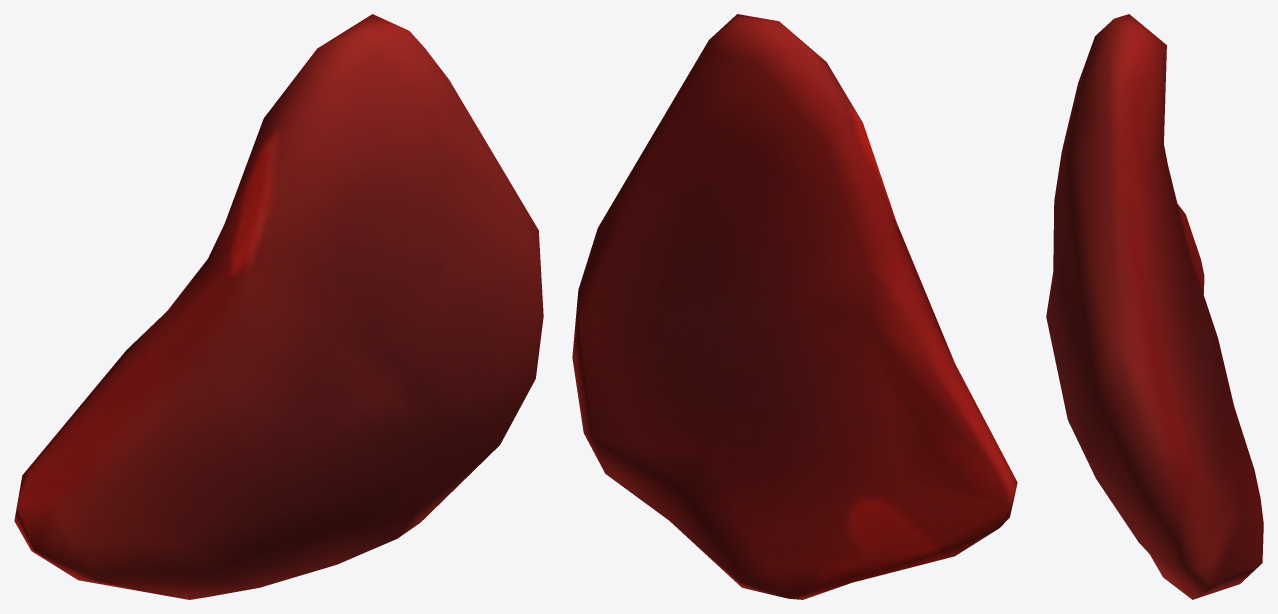
File: Face_Mucle_07.glb
3 renders of one model, left to right at view 1: azimuth 30°, elevation 25°; view 2: azimuth 150°, elevation 25°; view 3: azimuth 270°, elevation 25°, orthographic. The views are drawn at different scales.
Parts seen in each view (by area): view 1: Face_Mucle_07; view 2: Face_Mucle_07; view 3: Face_Mucle_07.
Part boxes in pixels (x1,y1,x2,y2): Face_Mucle_07: [14, 14, 543, 599]; Face_Mucle_07: [572, 14, 1017, 599]; Face_Mucle_07: [1046, 14, 1263, 599].
Size of the model in its own units: 0.228 by 0.2546 by 0.0866.
Materials: 1 (1 with a texture image).
